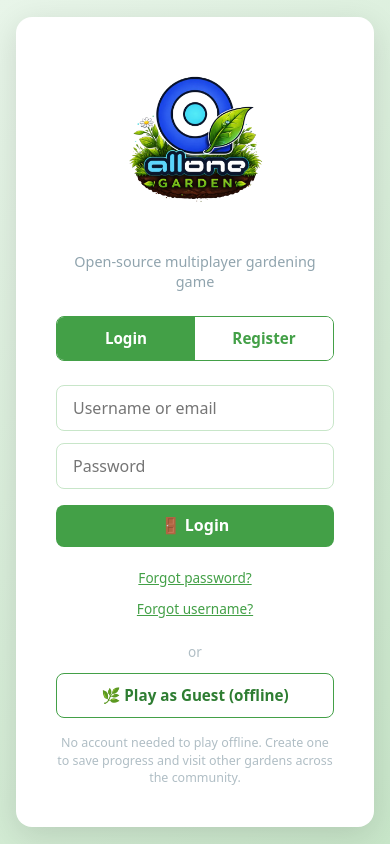
Test: AuthScreen › shows an error message when login fails
Type "Alice" into the field with placeholder "Username or email" at (195, 408), box [56, 385, 334, 431]
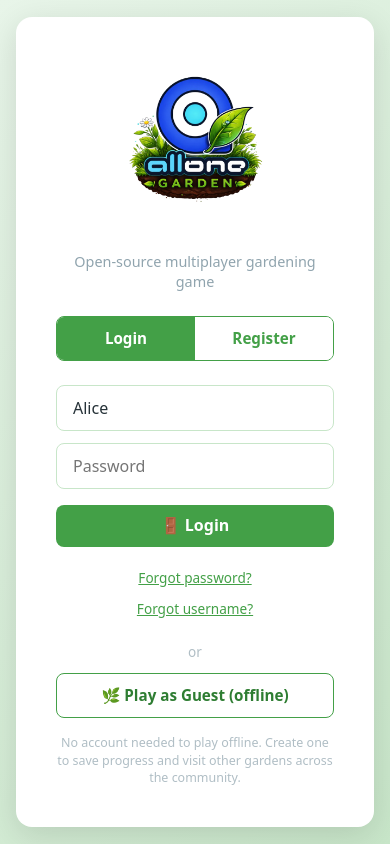
Type "wrong" into the password field with placeholder "Password" at (195, 466), box [56, 443, 334, 489]
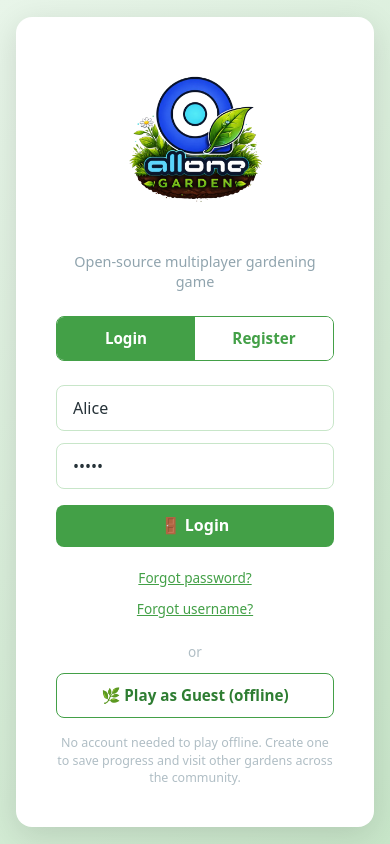
Click the button "🚪 Login" at (195, 526), box [56, 505, 334, 546]
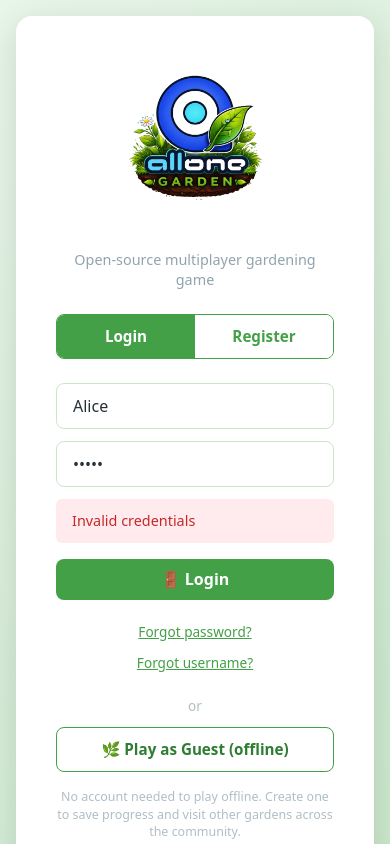
Expected: the text "Invalid credentials" is shown, [56, 500, 334, 543]
